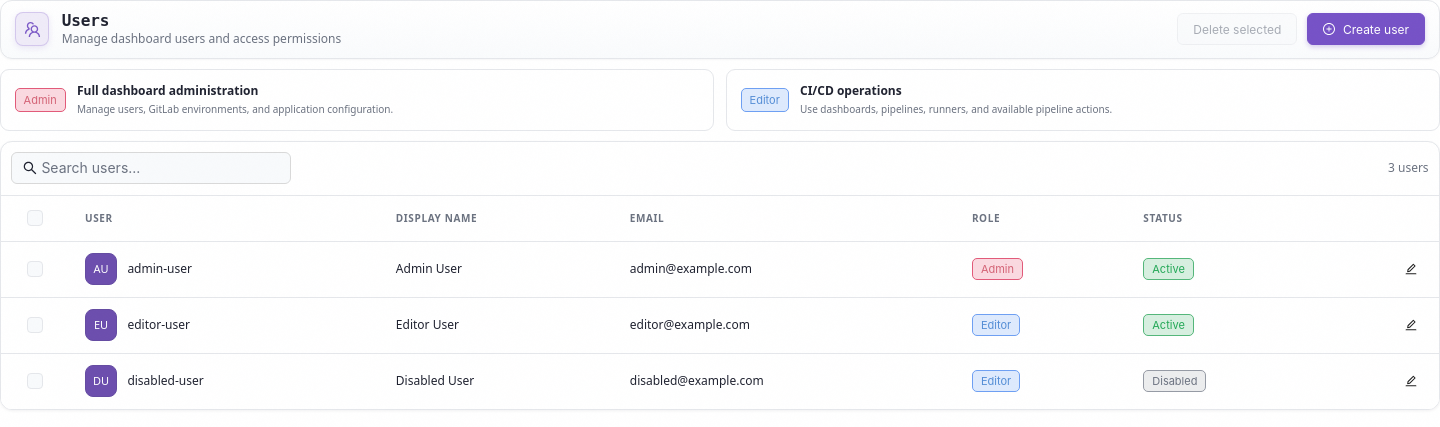
Test case: UsersPage › search input › search filters by username
Expected: the text "admin-user" is shown, [127,261,192,277]
Step 1. Type "disabled-user" into the dropdown with placeholder "Search users..." → (152, 168), box [41,157,263,179]
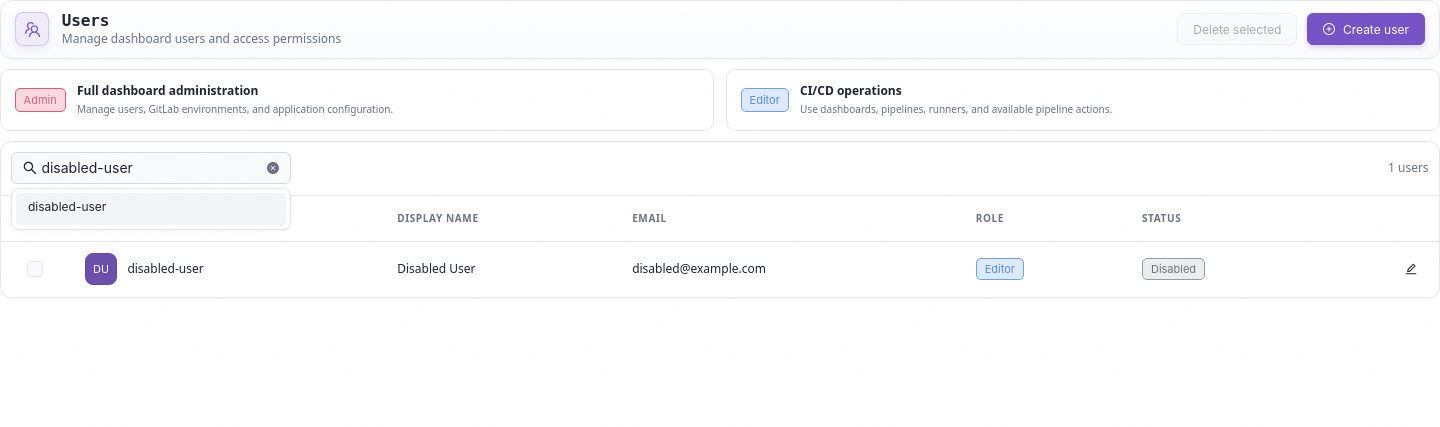
Result: the text "admin-user" is gone
